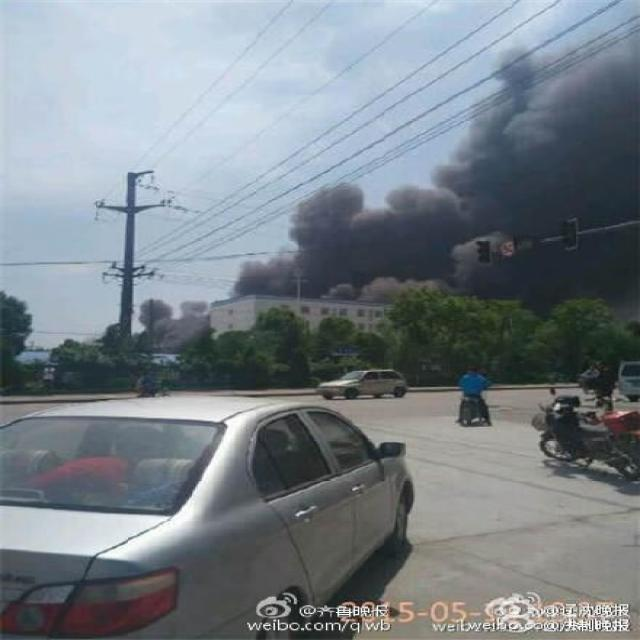Smoke: (224, 26, 640, 303), (136, 297, 210, 355)
